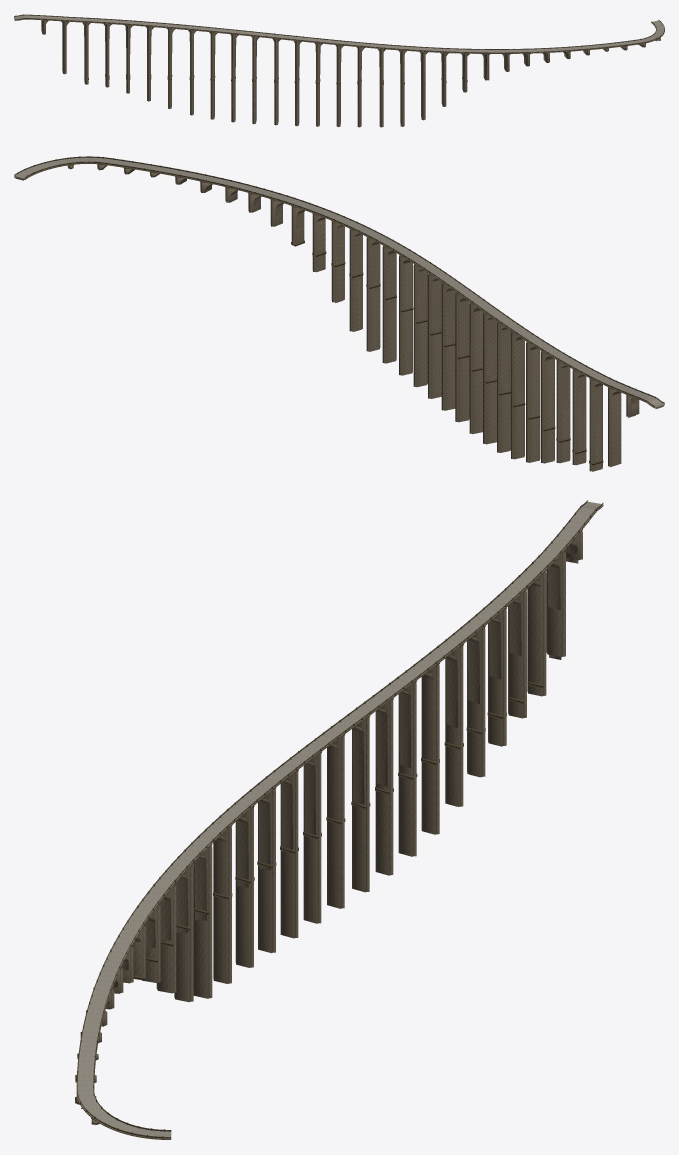
File: skybridge.glb
3 views of the same model, one above another, from view 1: azimuth 30°, elevation 25°; view 2: azimuth 150°, elevation 25°; view 3: azimuth 270°, elevation 25° (orthographic). The views are drawn at different scales.
Parts seen in each view (by area): view 1: skybridge; view 2: skybridge; view 3: skybridge.
Part boxes in pixels (<box>): skybridge: <box>14,14,664,127</box>; skybridge: <box>14,156,664,471</box>; skybridge: <box>75,500,603,1139</box>.
Size of the model in its own units: 1016 by 193 by 431.
3 materials, 3 textured.
